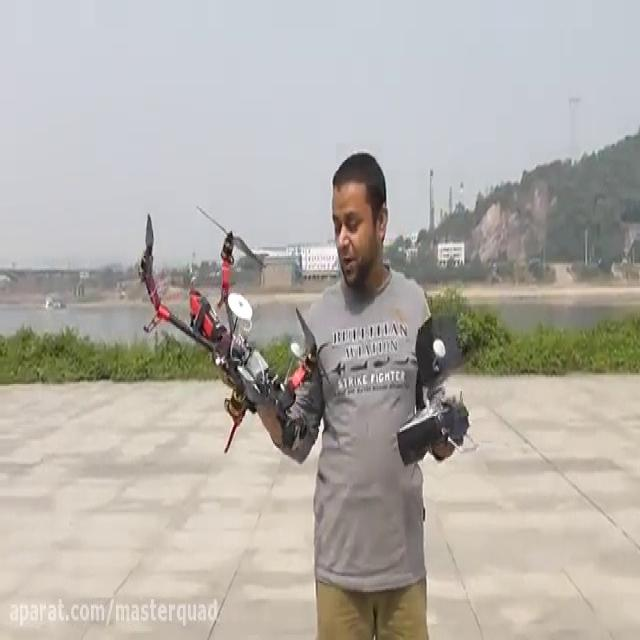drone: (136, 194, 330, 457)
